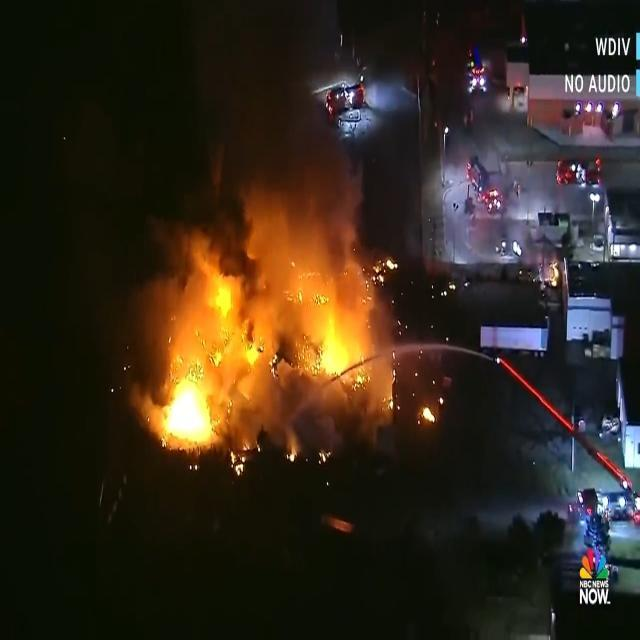fire: (146, 286, 358, 456), (413, 392, 447, 437)
